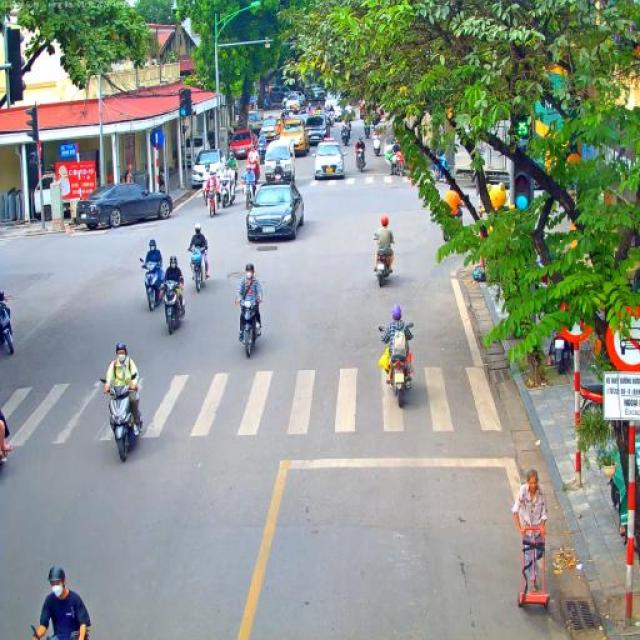car: (75, 180, 174, 230), (247, 179, 304, 242), (192, 148, 228, 187), (312, 140, 344, 180), (279, 117, 310, 154), (227, 130, 257, 161), (304, 112, 328, 146), (259, 115, 277, 145), (266, 85, 288, 109), (324, 97, 340, 119), (309, 82, 327, 101), (285, 92, 301, 112), (337, 106, 352, 126), (295, 90, 307, 114)
motorcycle: (98, 377, 144, 463), (378, 322, 418, 408), (234, 298, 264, 358), (162, 279, 186, 335), (140, 258, 164, 312), (30, 622, 90, 640), (548, 330, 571, 376), (374, 238, 394, 288), (0, 295, 15, 355), (188, 248, 207, 293), (444, 205, 464, 243), (204, 185, 220, 217), (219, 176, 233, 209), (432, 160, 451, 184), (390, 150, 406, 178), (243, 180, 257, 211), (247, 157, 259, 182), (228, 161, 238, 191), (0, 442, 9, 472), (356, 148, 366, 173), (372, 134, 382, 157), (256, 141, 266, 161), (341, 126, 351, 146), (363, 122, 372, 138), (326, 110, 335, 126), (272, 173, 284, 184)
truck: (454, 113, 564, 195), (264, 138, 297, 184), (235, 111, 263, 138)
